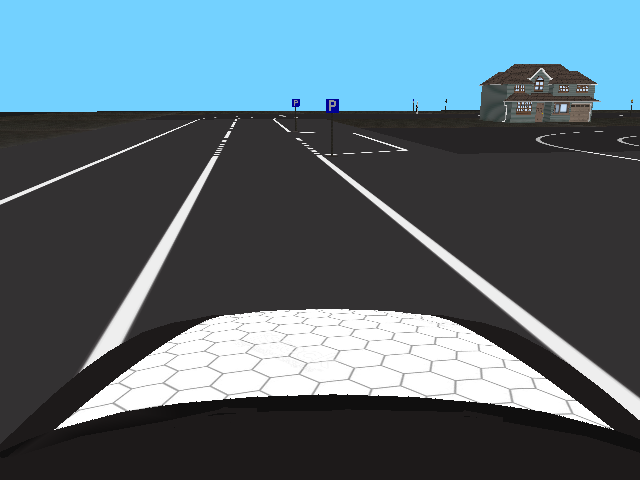parking: (325, 99, 339, 113), (291, 99, 301, 108)
